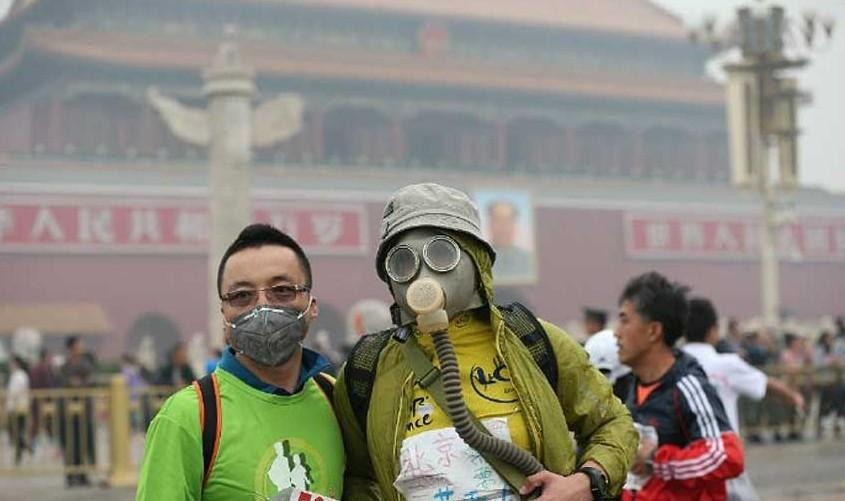person: (328, 181, 640, 501), (132, 223, 373, 501), (577, 269, 745, 501), (650, 296, 804, 501), (556, 307, 634, 459), (120, 342, 200, 475), (52, 336, 98, 490), (710, 319, 750, 443), (735, 329, 777, 444), (776, 331, 809, 444), (5, 356, 35, 469), (810, 329, 837, 437), (828, 315, 845, 432)
